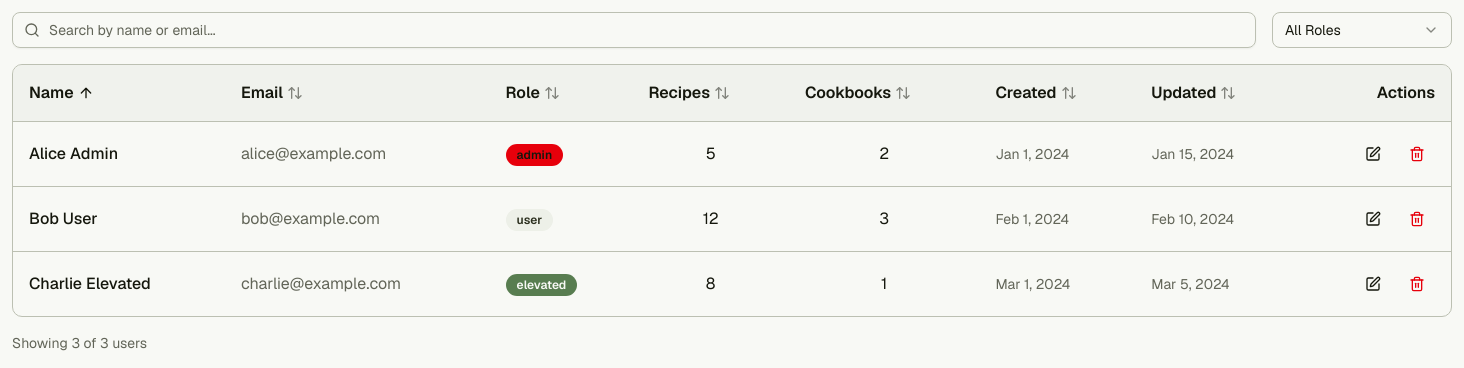
Test: UserListClient › Search functionality › filters users by email
Type "bob@example.com" into the field with placeholder "Search by name or email...". click: point(634, 30)
box: 12,12 -> 1256,48
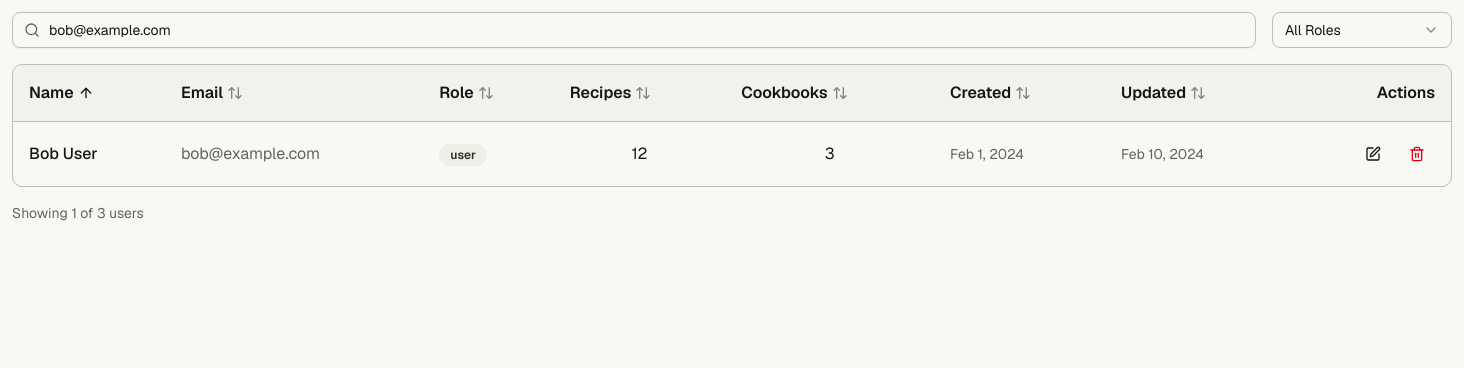
expect the text "Bob User" is shown: met, box 13,122 -> 165,186
expect the text "Alice Admin" is gone: met
expect the text "Charlie Elevated" is gone: met
